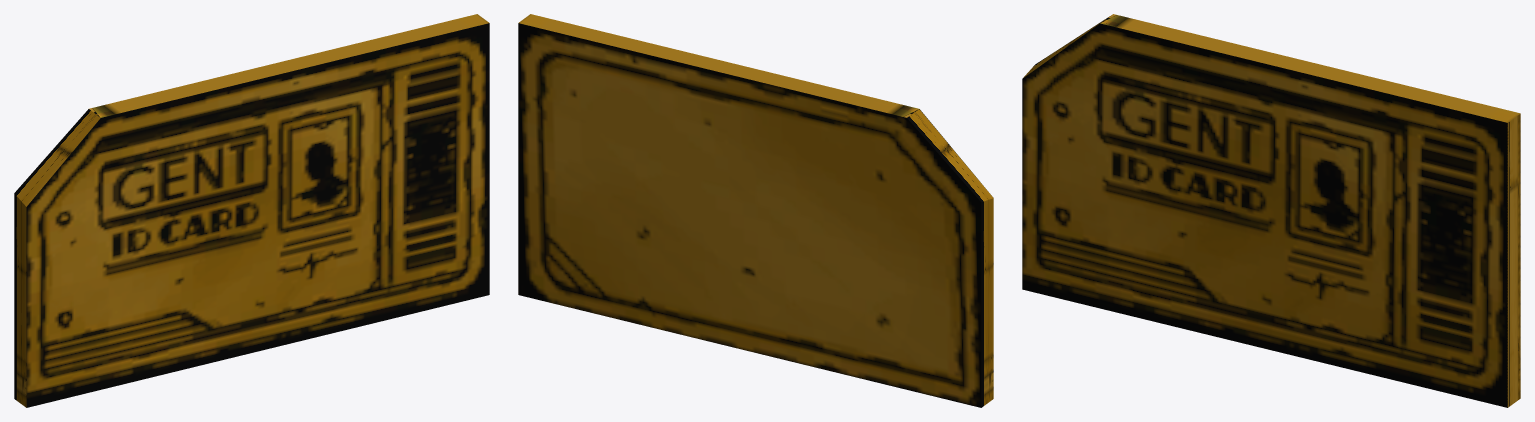
Rendered from idgent.obj.
The picture shows the model from 3 angles, left to right: view 1: azimuth 30°, elevation 25°; view 2: azimuth 150°, elevation 25°; view 3: azimuth 330°, elevation 25°; orthographic projection. The views are drawn at different scales.
Visible parts, largest first — view 1: Cube_Cube.007; view 2: Cube_Cube.007; view 3: Cube_Cube.007.
Part boxes in pixels (x1=…): Cube_Cube.007: x1=14, y1=14, x2=489, y2=407; Cube_Cube.007: x1=518, y1=14, x2=993, y2=407; Cube_Cube.007: x1=1022, y1=14, x2=1520, y2=407.
Bounding box in the file's own units: 3.56 × 2 × 0.1653.
